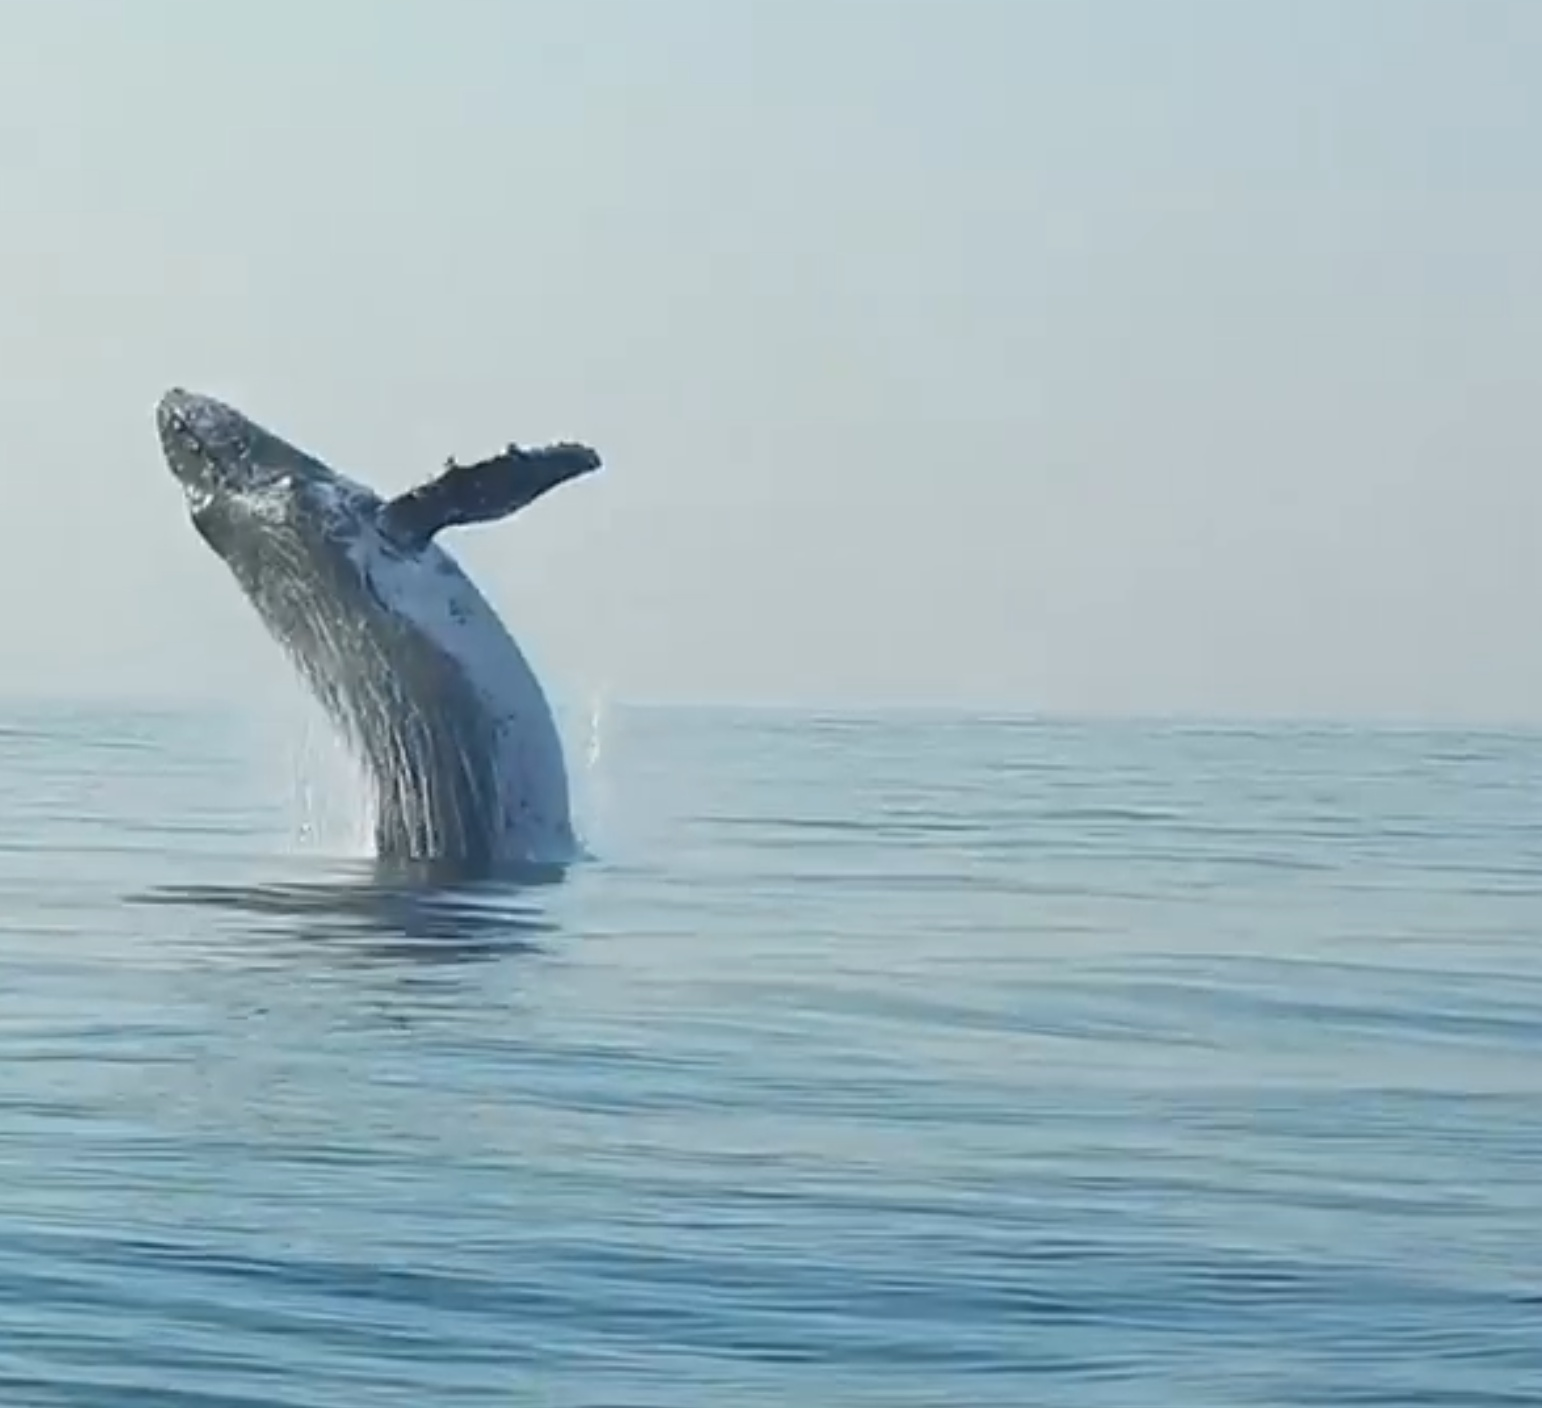humpback: (152, 383, 575, 879)
